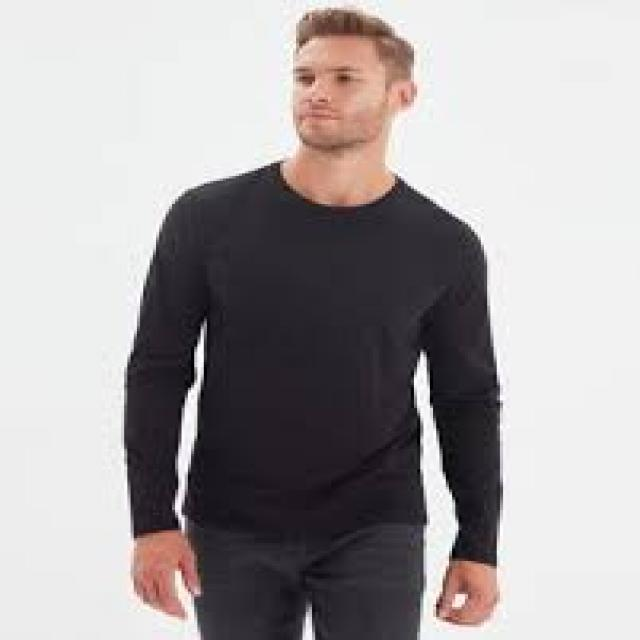plain: (115, 160, 504, 538)
